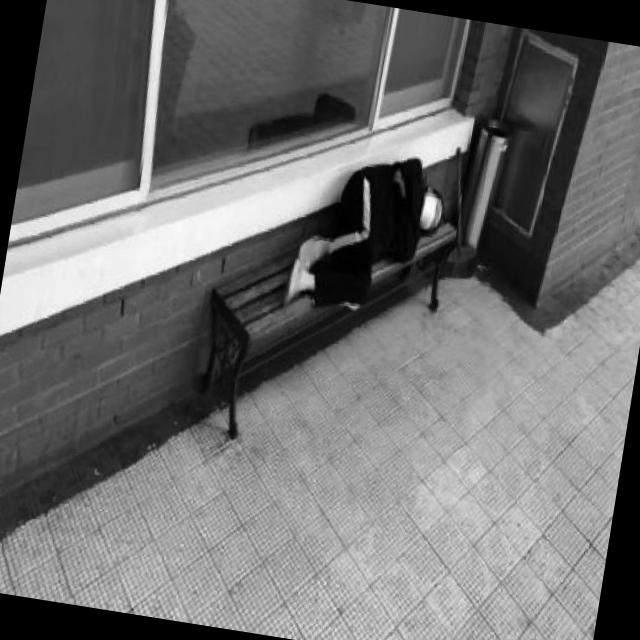person: (283, 140, 454, 321)
